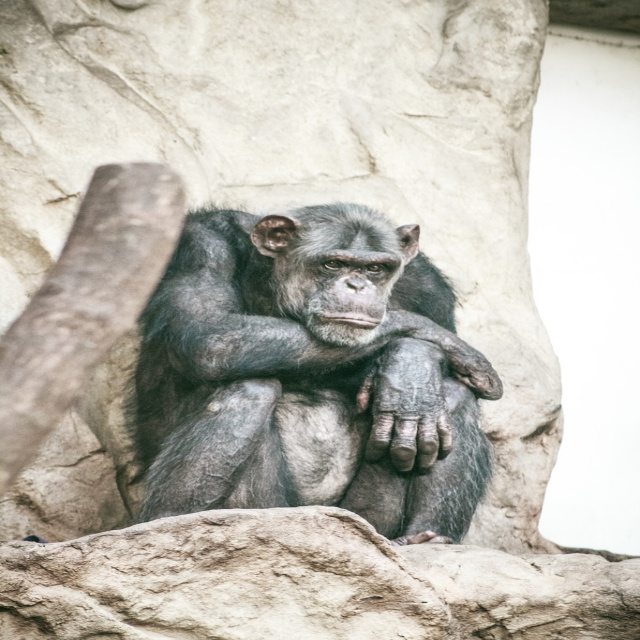Monkey: (98, 185, 549, 568)
